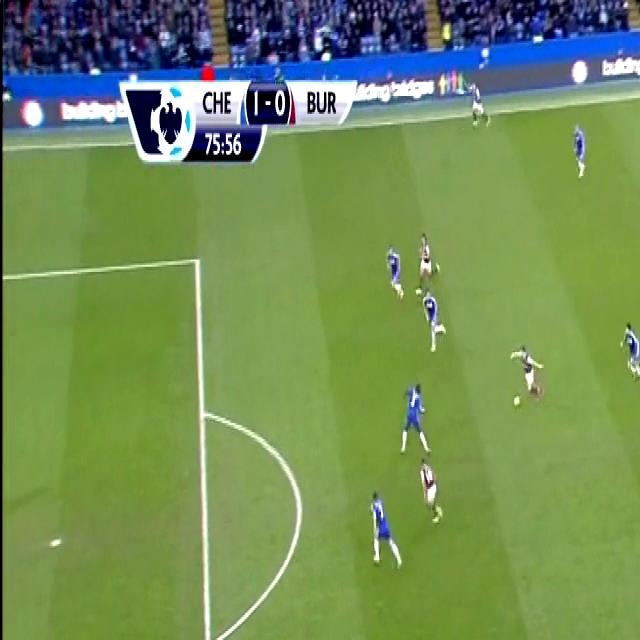ball: (508, 393, 522, 415)
soccer-player: (367, 484, 410, 580), (396, 370, 434, 460), (511, 340, 552, 415), (416, 284, 449, 361), (417, 452, 447, 532), (614, 311, 640, 382), (384, 236, 409, 308), (417, 228, 441, 292), (569, 112, 590, 183), (470, 72, 492, 132)
